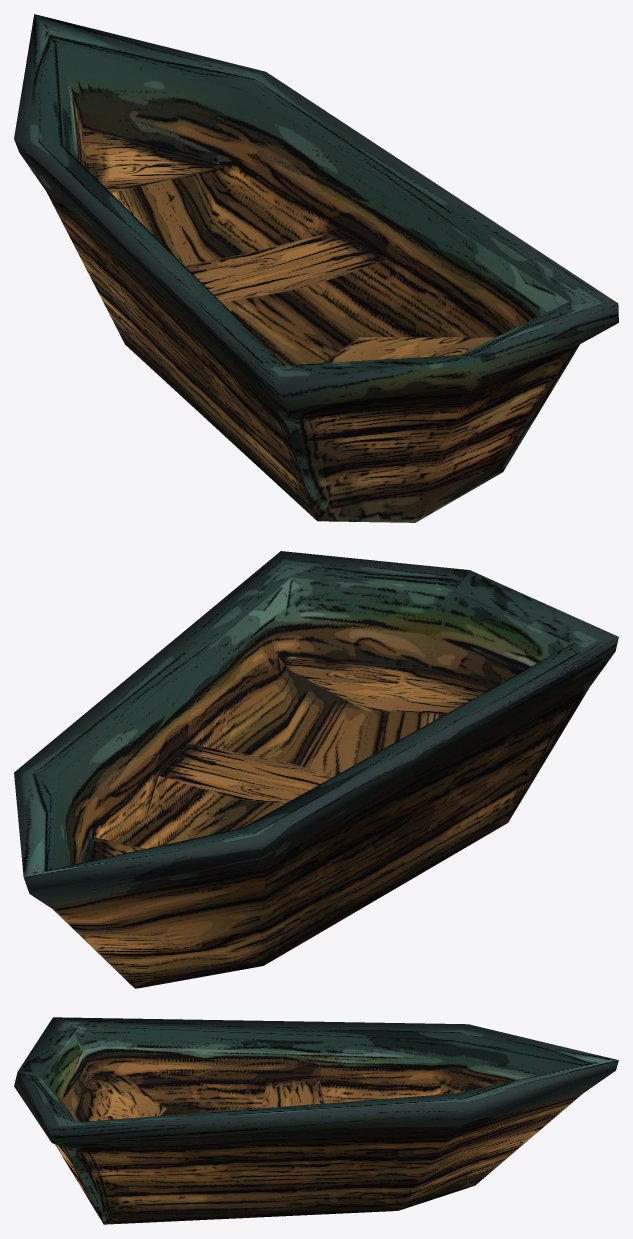
The picture shows the model from 3 angles, top to bottom: view 1: azimuth 30°, elevation 25°; view 2: azimuth 150°, elevation 25°; view 3: azimuth 270°, elevation 25°; orthographic projection. The views are drawn at different scales.
Visible parts, largest first — view 1: boat; view 2: boat; view 3: boat.
Part boxes in pixels (left/top/right/bottom): boat: left=14, top=14, right=618, bottom=522; boat: left=14, top=551, right=618, bottom=988; boat: left=14, top=1017, right=618, bottom=1224.
Bounding box in the file's own units: 1.32 × 0.8325 × 2.98.
Materials: 1 (1 with a texture image).
